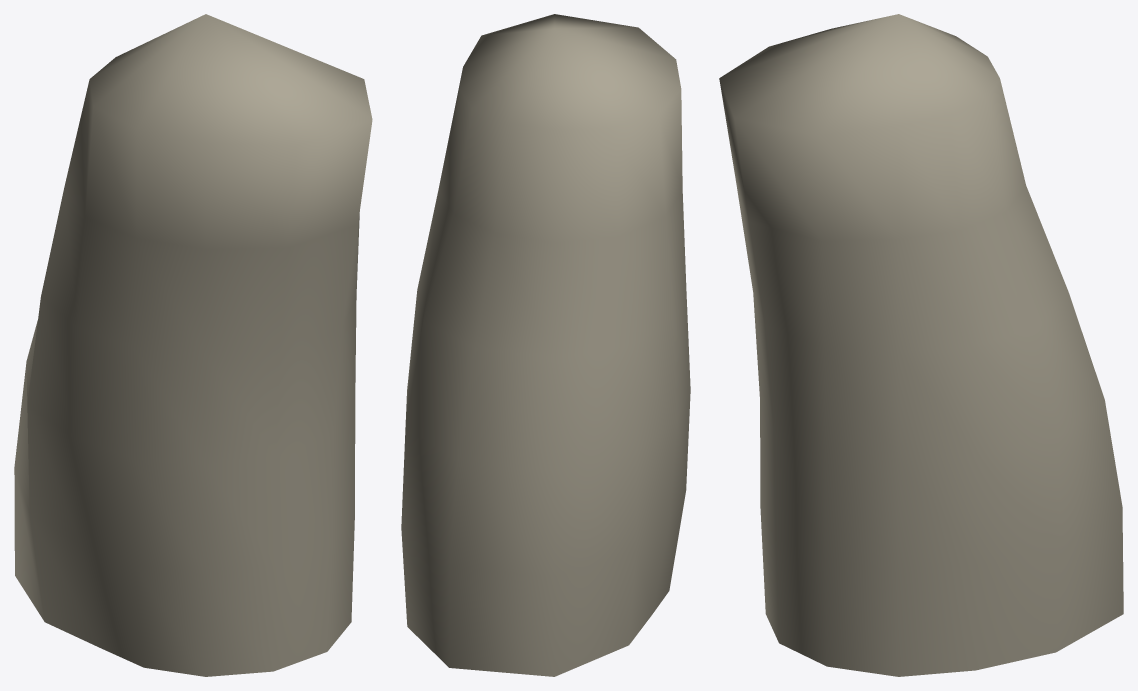
Rendered from necro_armor_boot.L.glb.
3 views of the same model, side by side, from view 1: azimuth 30°, elevation 25°; view 2: azimuth 150°, elevation 25°; view 3: azimuth 270°, elevation 25° (orthographic). The views are drawn at different scales.
Parts seen in each view (by area): view 1: necro_armor_boot.L; view 2: necro_armor_boot.L; view 3: necro_armor_boot.L.
Part boxes in pixels (x1,y1,x2,y2): necro_armor_boot.L: [14, 14, 372, 676]; necro_armor_boot.L: [401, 14, 690, 676]; necro_armor_boot.L: [719, 14, 1123, 676].
Bounding box in the file's own units: 0.1318 × 0.288 × 0.1759.
